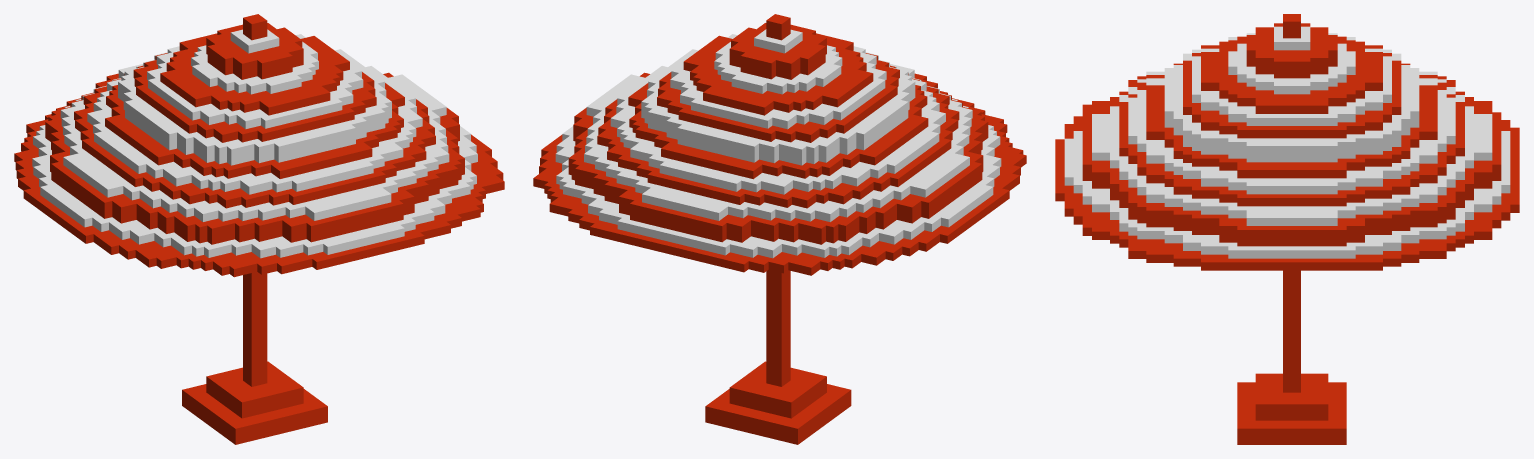
Rendered from parasol.fbx.
The picture shows the model from 3 angles, left to right: view 1: azimuth 30°, elevation 25°; view 2: azimuth 150°, elevation 25°; view 3: azimuth 270°, elevation 25°; orthographic projection. The views are drawn at different scales.
Visible parts, largest first — view 1: parasol; view 2: parasol; view 3: parasol.
Boxes of the visible parts, x1,y1,x2,y2 form: parasol: (14, 14, 504, 444); parasol: (533, 14, 1026, 444); parasol: (1055, 14, 1519, 444).
Bounding box in the file's own units: 51 × 49 × 51.
